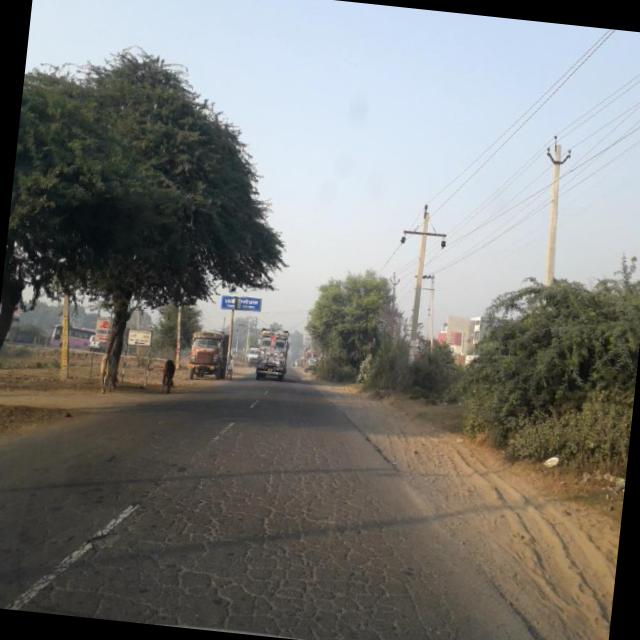crack: (0, 425, 471, 640)
pothole: (61, 516, 138, 568)
